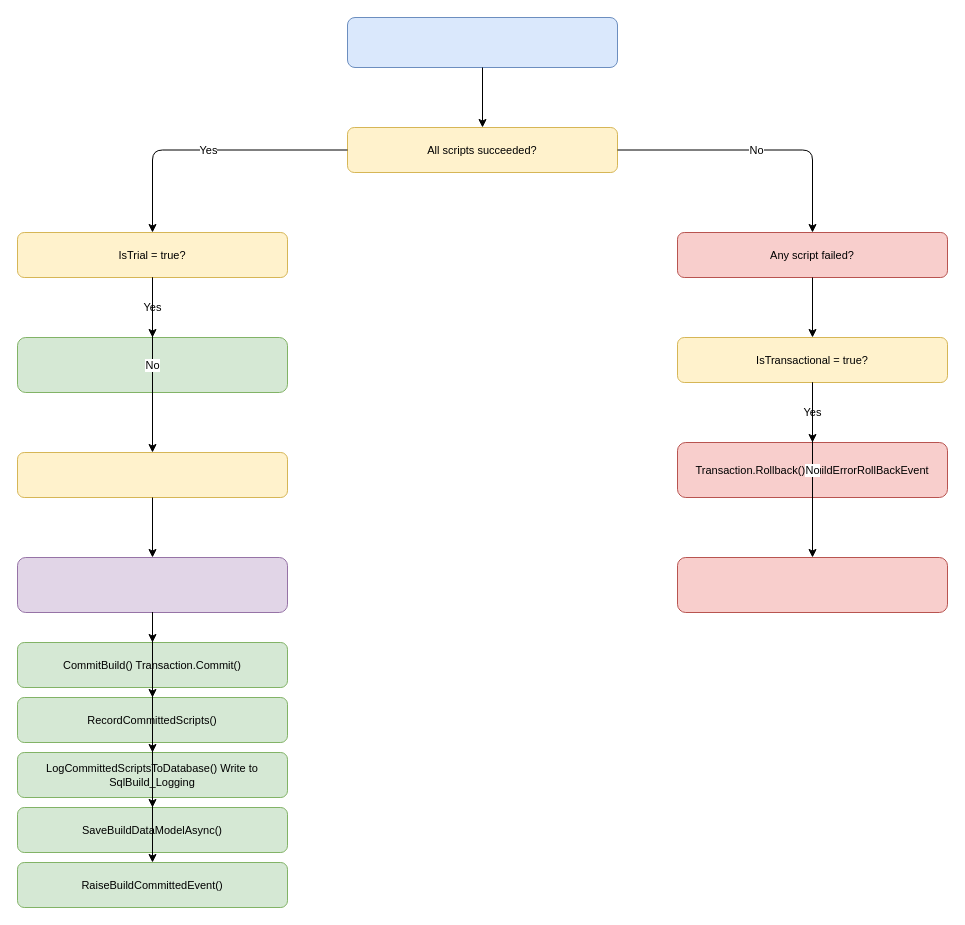
Image size: 965x925. Some labels were removed from this diagram. The centre of each missing label's shape, as x and y in pixels:
"DefaultBuildFinalizer .PerformRunScriptFinalizationAsync()" belongs at point 152,584.
"IsTrial = false?" belongs at point 152,475.
"Partial commit BuildErrorNonTransactionalEvent" belongs at point 812,584.
"SqlBuildRunner.RunAsync() (continued)" belongs at point 482,42.
"Transaction.Rollback() BuildSuccessTrialRolledBackEvent" belongs at point 152,364.
